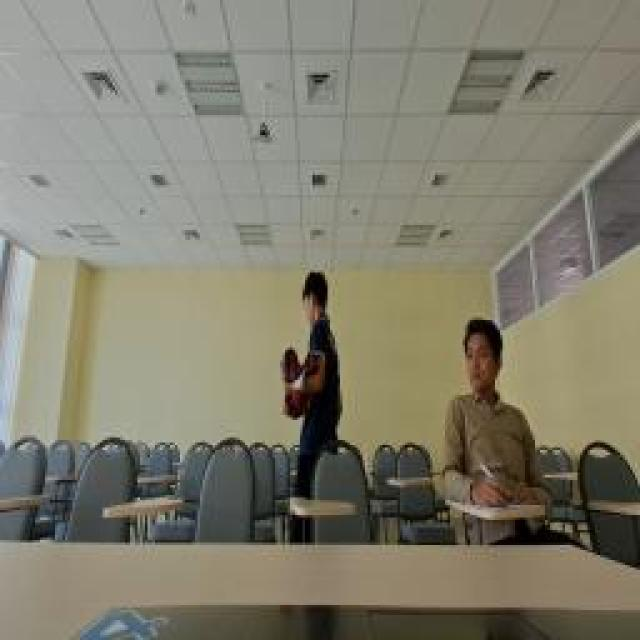study: (445, 315, 550, 505)
